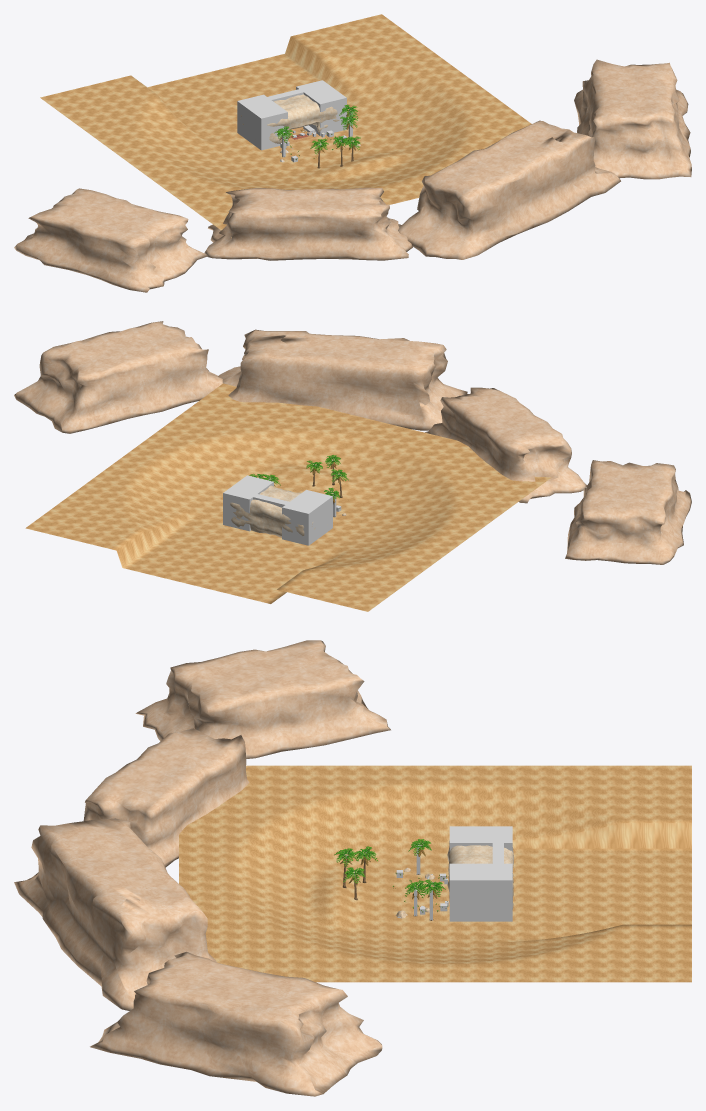
File: cave-hermitage.glb
The picture shows the model from 3 angles, top to bottom: view 1: azimuth 30°, elevation 25°; view 2: azimuth 150°, elevation 25°; view 3: azimuth 270°, elevation 25°; orthographic projection. The views are drawn at different scales.
Visible parts, largest first — view 1: distant_cliffs, ground, col:cliff-left, cliff, col:cliff-right, col:cliff-back; view 2: ground, distant_cliffs, col:cliff-left, cliff, col:cliff-right, col:cliff-back; view 3: ground, distant_cliffs, col:cliff-right, col:cliff-left, cliff.
Part boxes in pixels (x1,y1,x2,y2): distant_cliffs: (14,59,691,292); ground: (40,14,531,237); col:cliff-left: (237,94,287,150); cliff: (240,94,339,143); col:cliff-right: (296,80,346,135); col:cliff-back: (242,83,328,105); ground: (25,383,559,611); distant_cliffs: (14,321,691,564); col:cliff-left: (282,489,332,545); cliff: (230,485,327,537); col:cliff-right: (223,475,273,531); col:cliff-back: (227,487,314,510); ground: (179,765,691,982); distant_cliffs: (14,640,390,1096); col:cliff-right: (449,863,512,921); col:cliff-left: (449,826,512,851); cliff: (447,841,513,908).
Bounding box in the file's own units: 348 × 31.42 × 238.
Materials: 26 (20 with a texture image).
